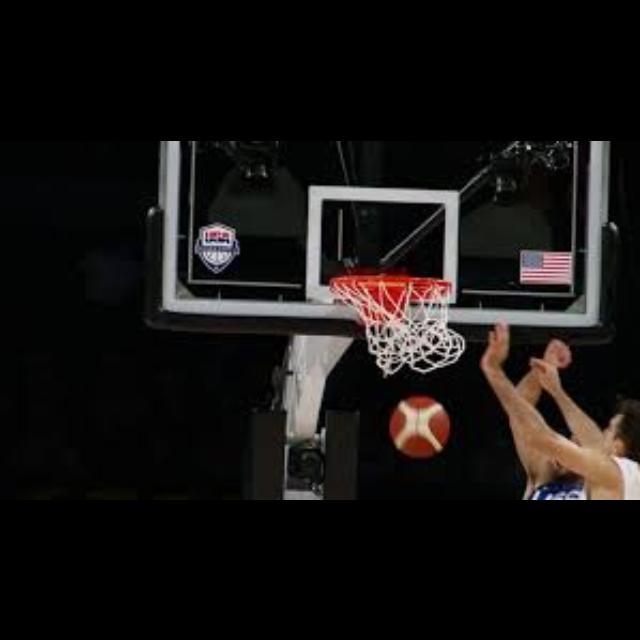basketball: (389, 394, 453, 458)
rim: (331, 276, 451, 374)
